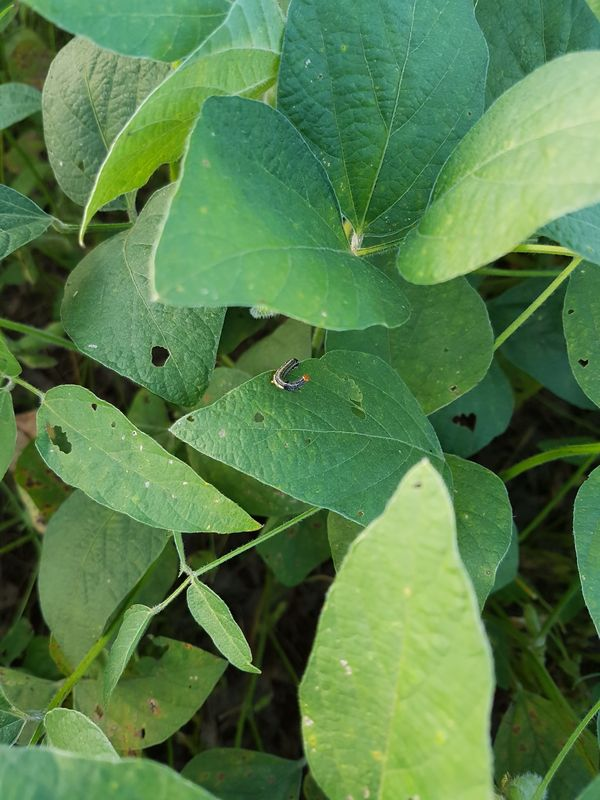Spodoptera_albula: (264, 354, 313, 396)
